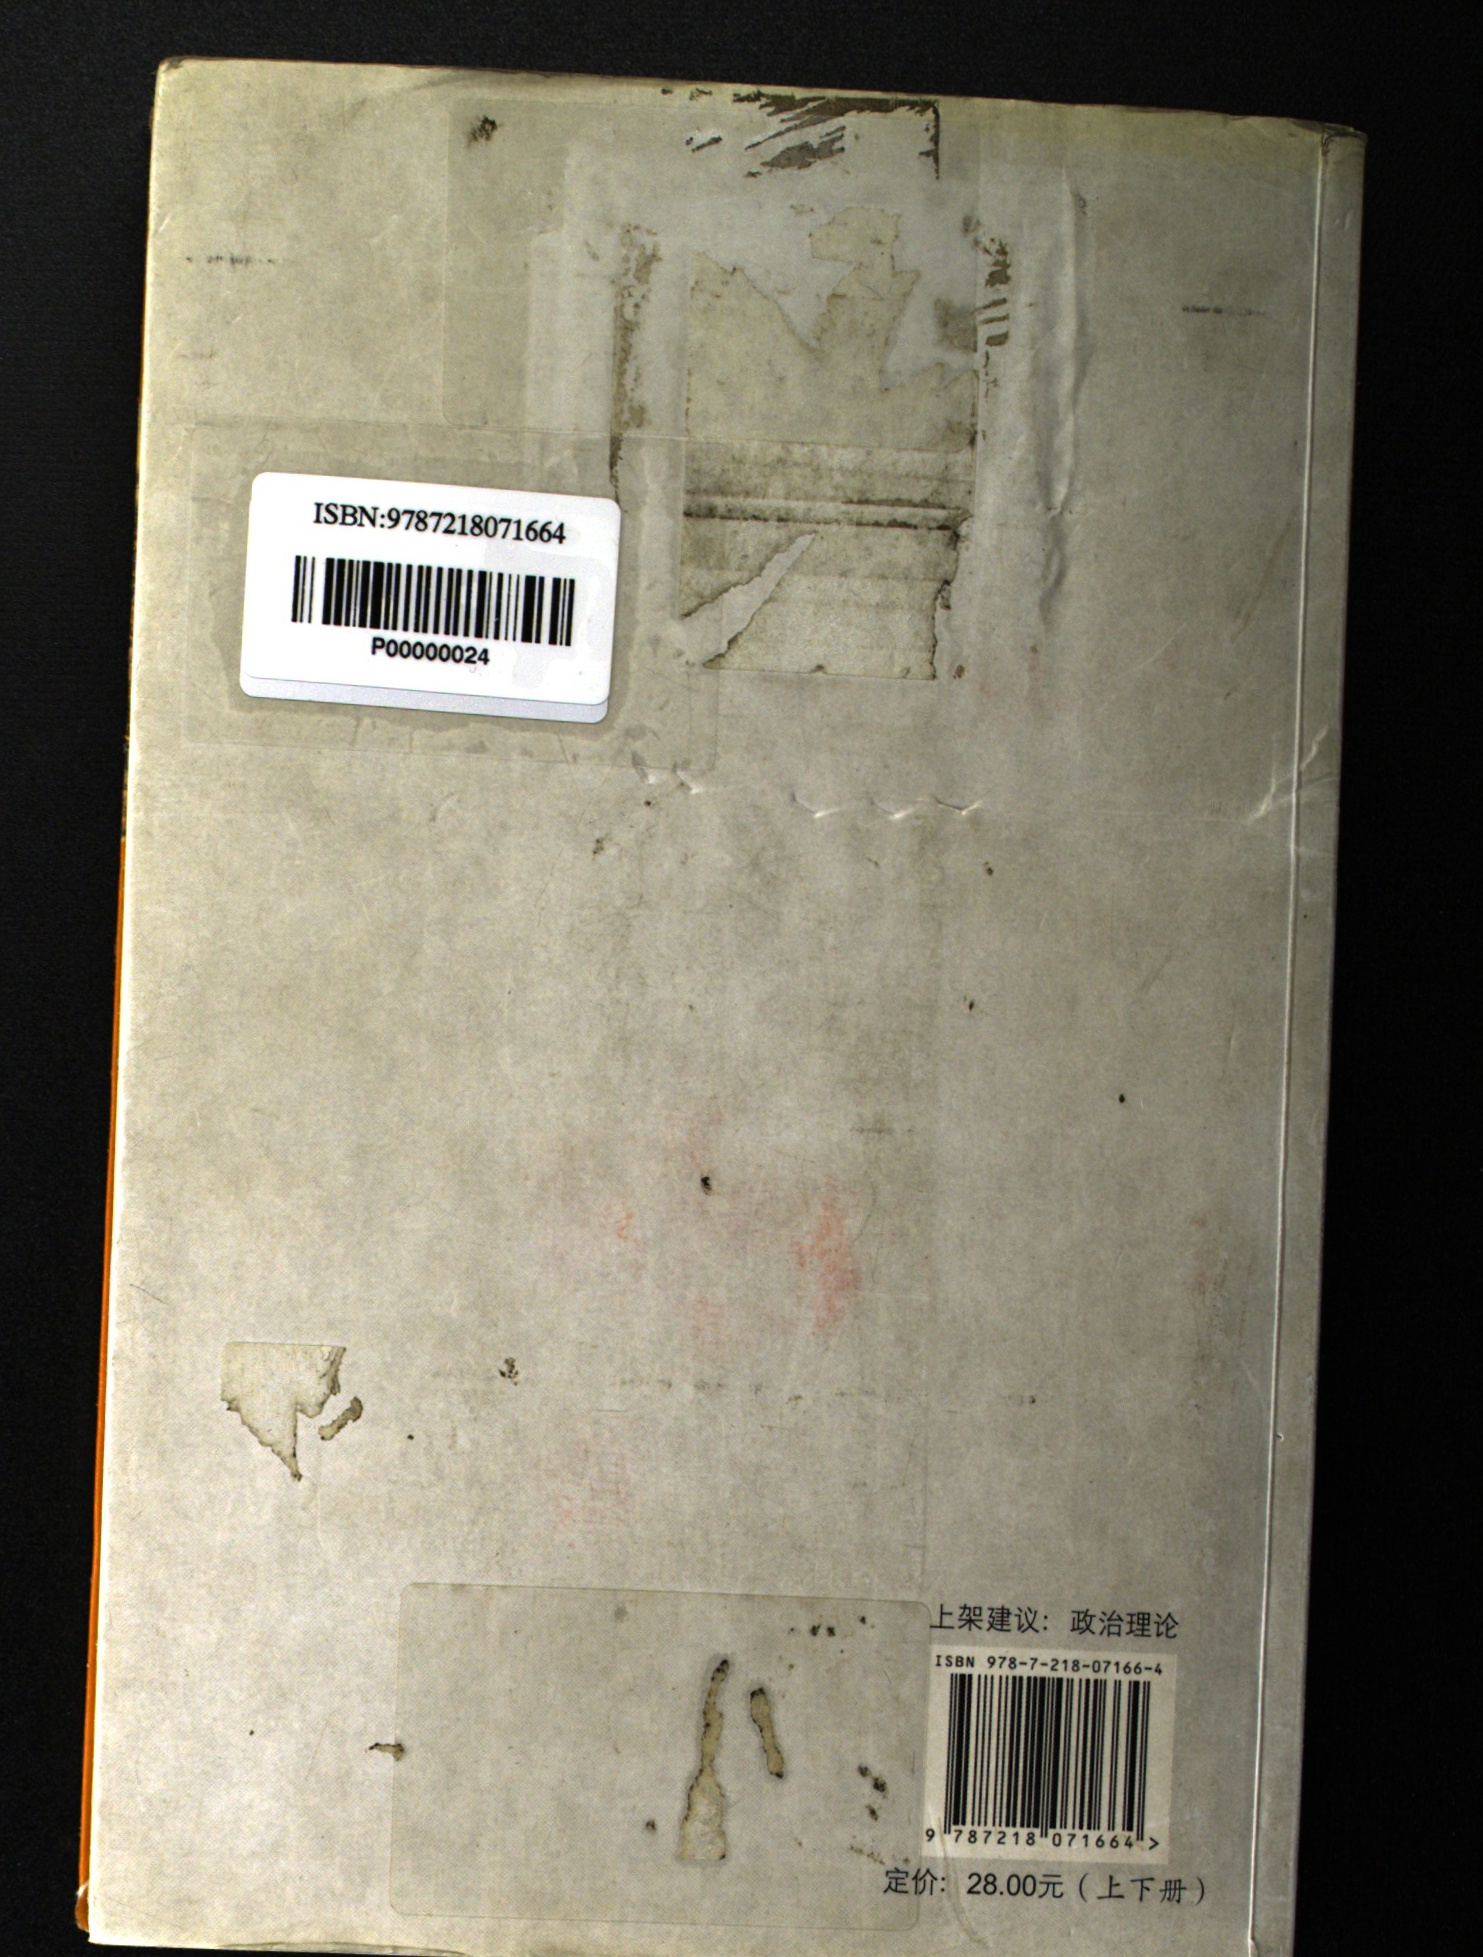barcode: (886, 1581, 1214, 1860), (246, 471, 601, 717)
